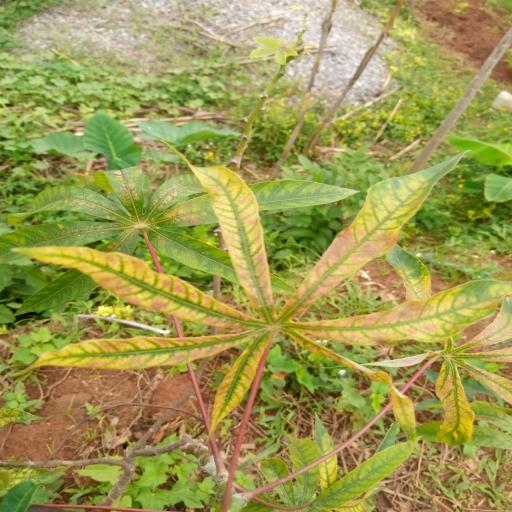Cassava_Mosaic: (17, 159, 512, 438), (14, 158, 353, 318), (366, 239, 512, 441)
